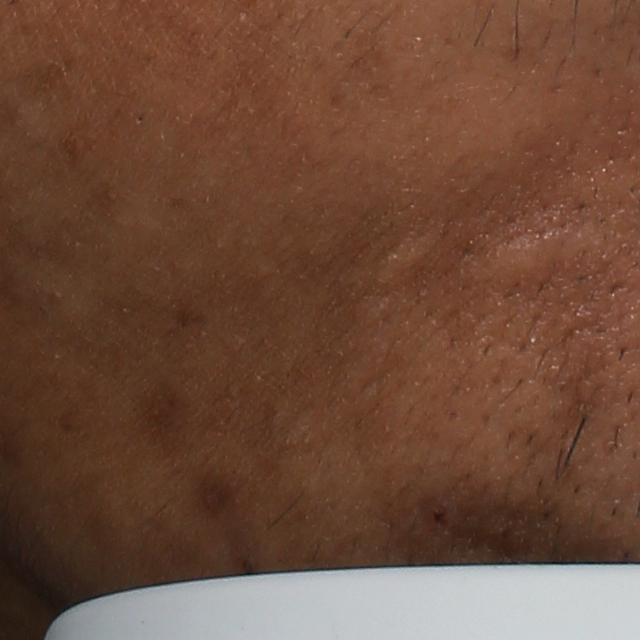hypertrophic_scar: (457, 215, 617, 291), (378, 223, 448, 285)
